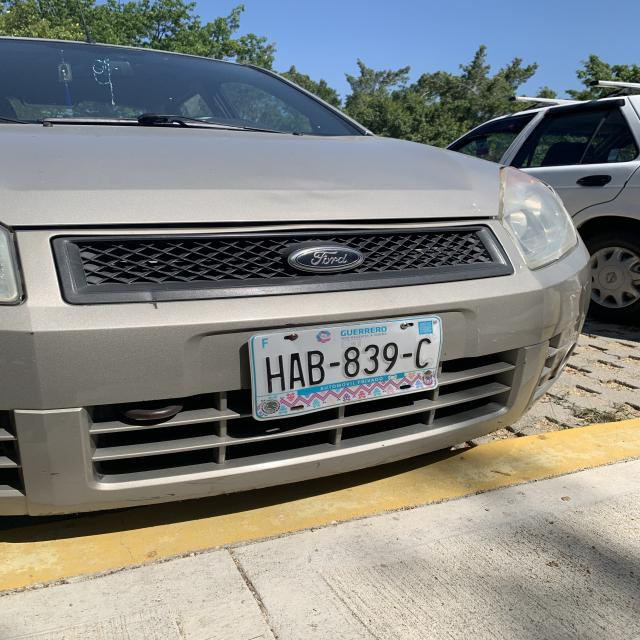placa: (248, 334, 447, 397)
